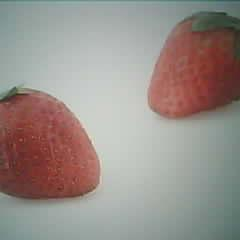straw-ripe: (0, 90, 102, 198), (147, 10, 240, 116)
